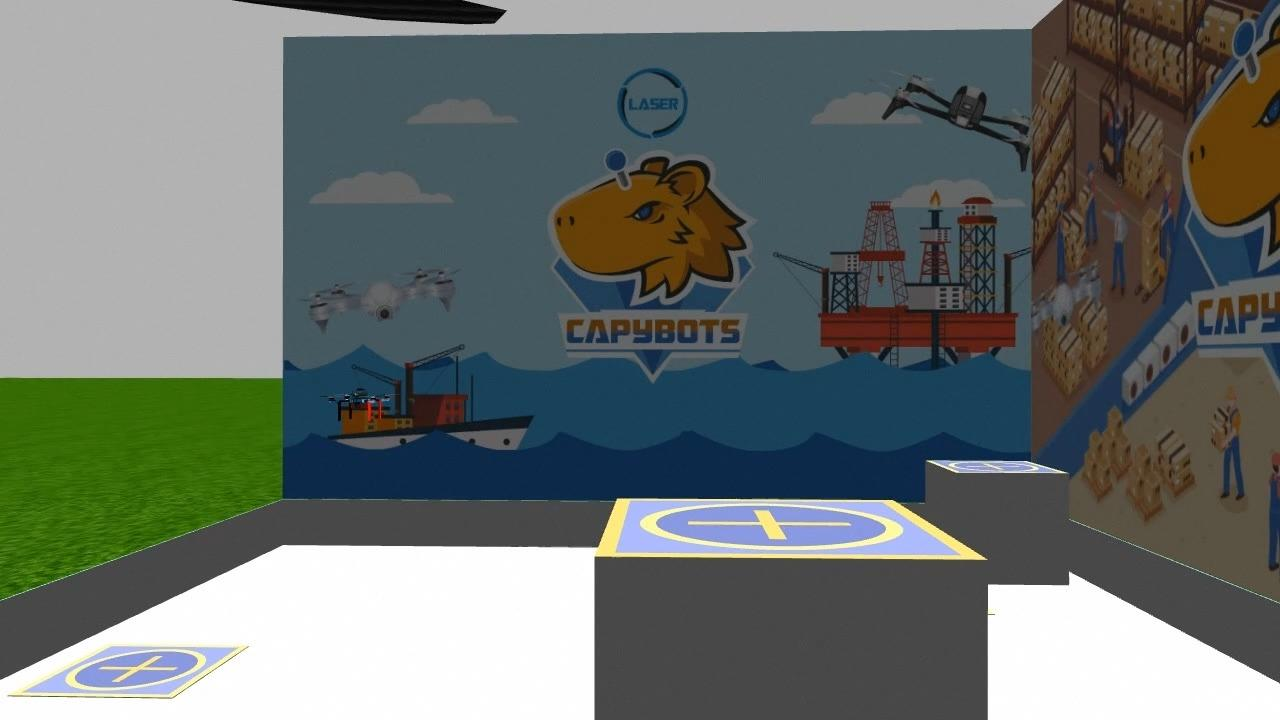UAV: (318, 376, 401, 432)
